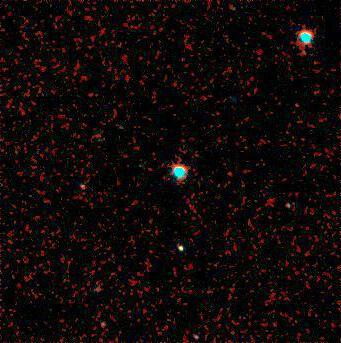star: (280, 90, 310, 120)
